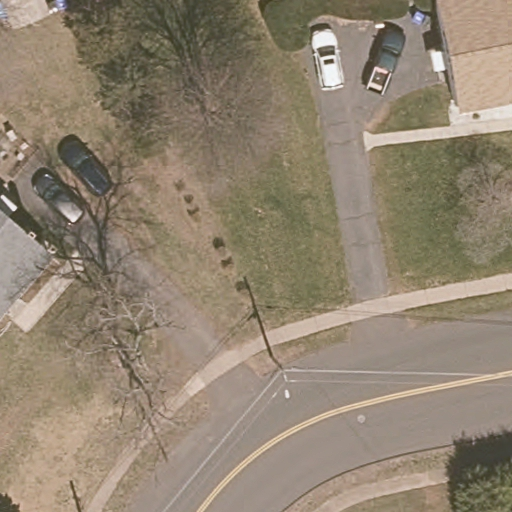DT: (270, 356, 296, 400)
